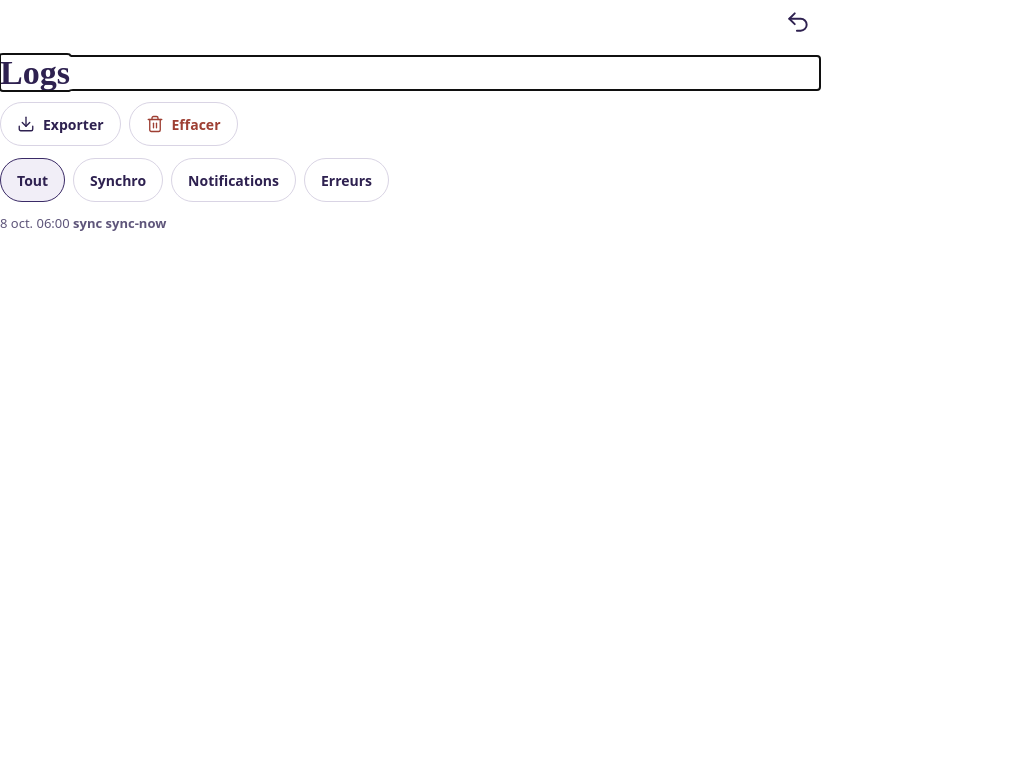
Test: I-04 / FILES-IOS-01 QA : états d’échec de l’écran Logs › I-04 critère 8 : « Effacer » refusé (lien, disque) -> message avec code, les entrées restent affichées, un second essai réussit
Expected: the list is shown, [0,214,166,232]
Click the button "Effacer" at point(183, 124), box [128,102,238,146]
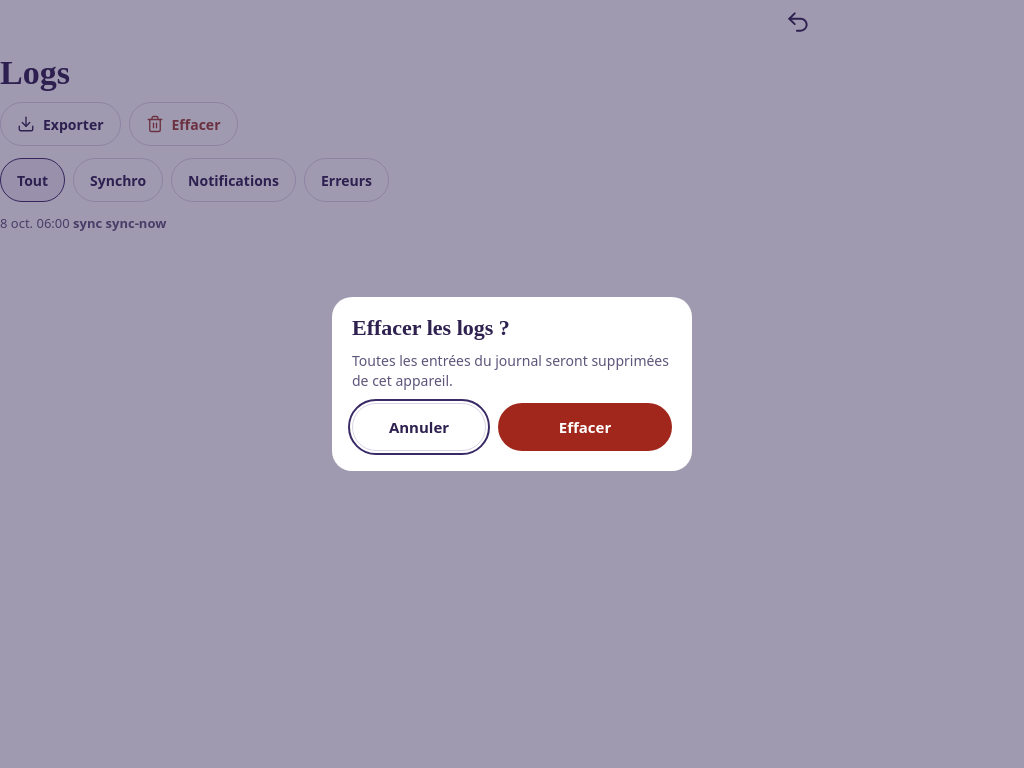
Click the button "Effacer" at point(585, 427), box [498,403,672,451]
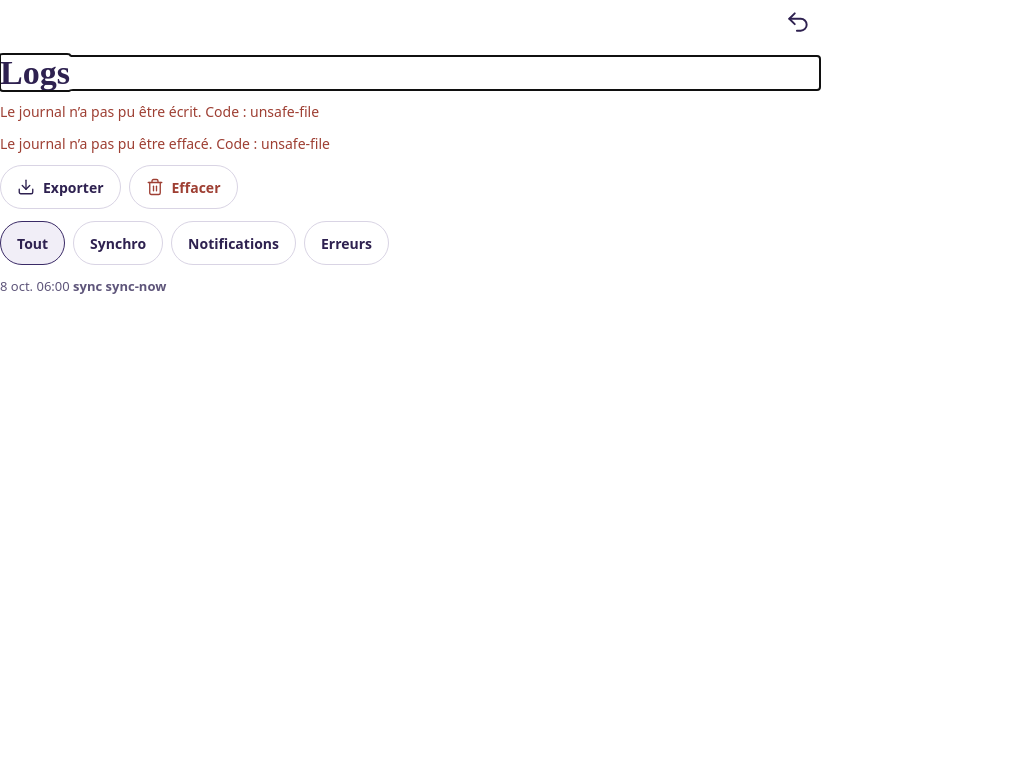
Expected: the number of list items is 1, [0,277,166,295]
Click the button "Effacer" at point(183, 187), box [128,165,238,209]
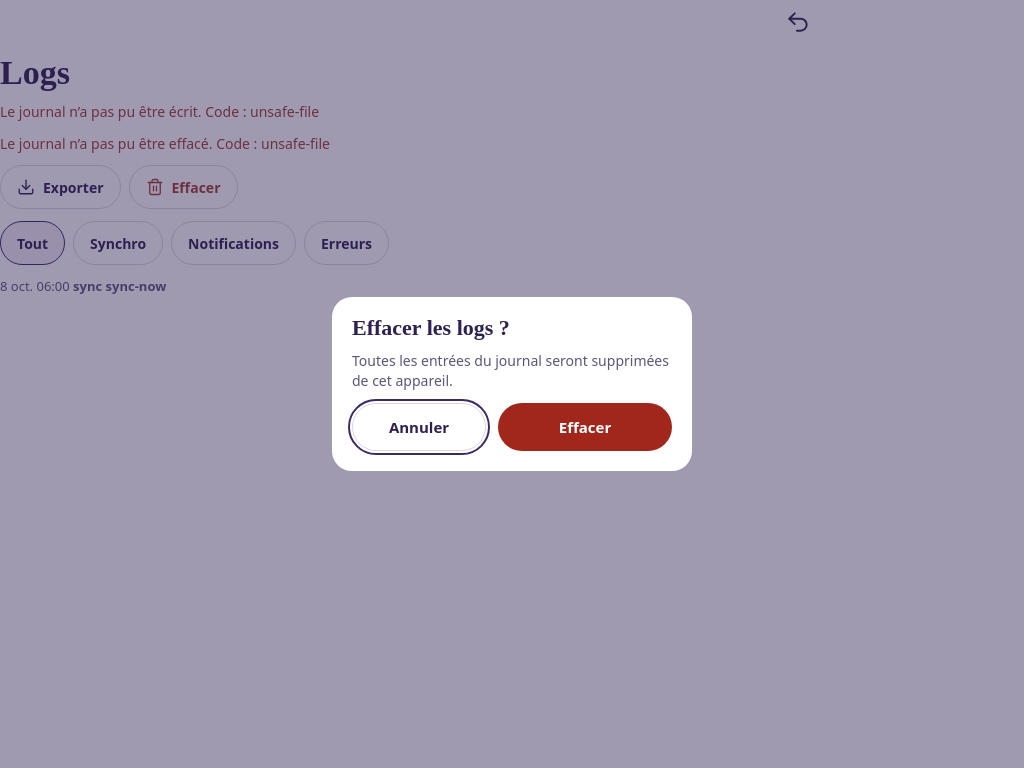
Click the button "Effacer" at point(585, 427), box [498,403,672,451]
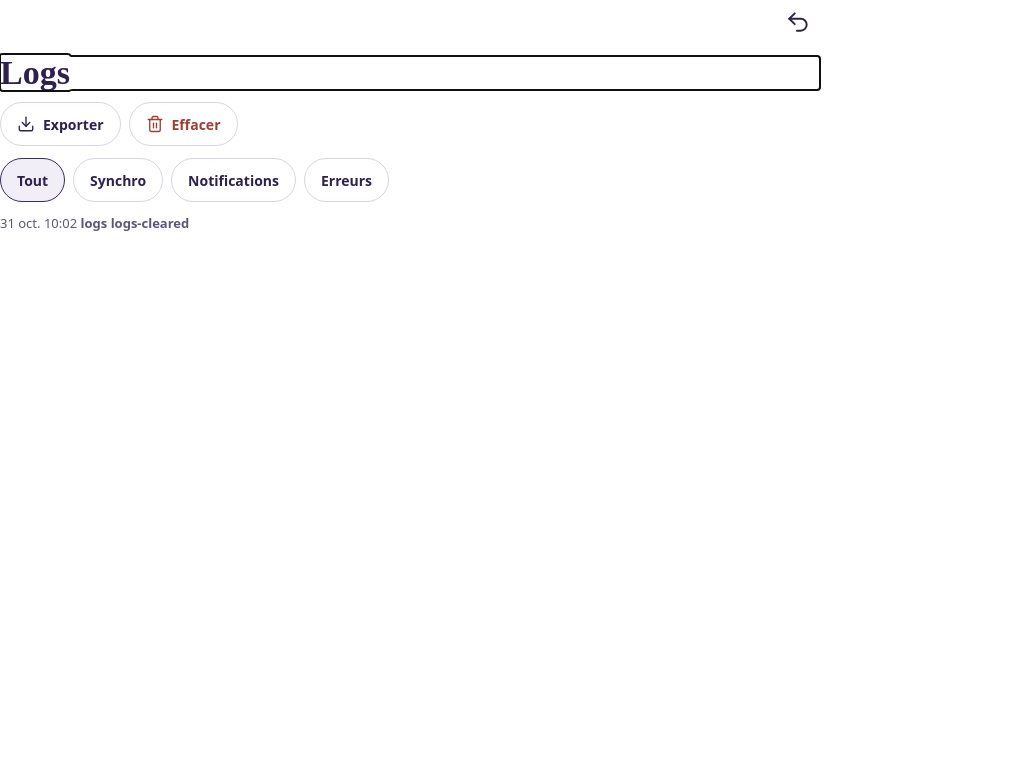
Expected: the text "logs-cleared" is shown, [111,214,189,232]
Expected: the text "Code : unsafe-file" is gone
